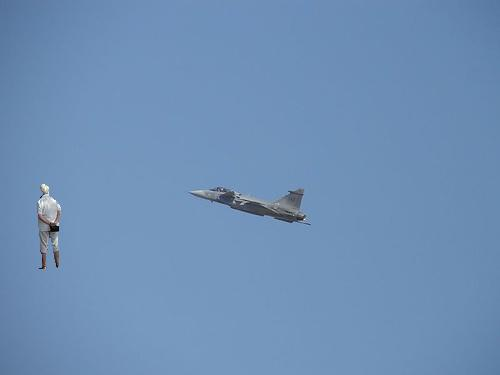tampered: (38, 185, 61, 269)
